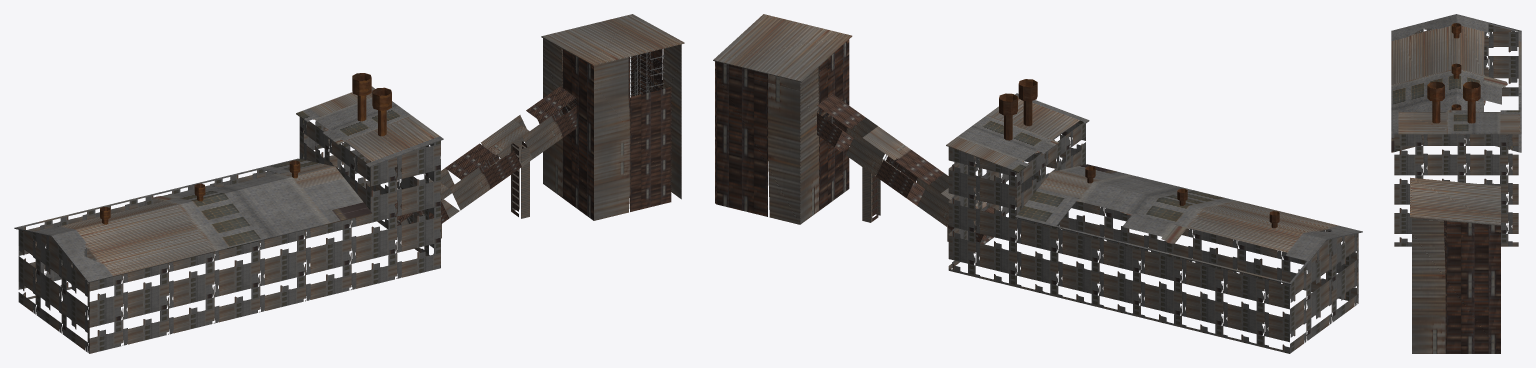
File: old_factory_02.fbx
3 renders of one model, left to right at view 1: azimuth 30°, elevation 25°; view 2: azimuth 150°, elevation 25°; view 3: azimuth 270°, elevation 25°, orthographic. The views are drawn at different scales.
Parts seen in each view (by area): view 1: Factory_Building_Main, Steel_Construction, Roof_01, Factory_Building_Main_1, Steel_Construction_1, Roof_02, Roof_03, Chimney_Big, Steel_Construction_Beam, Chimney_Small; view 2: Factory_Building_Main, Steel_Construction, Roof_01, Factory_Building_Main_1, Steel_Construction_1, Roof_03, Roof_02, Chimney_Big, Steel_Construction_Beam; view 3: Steel_Construction, Roof_01, Factory_Building_Main_1, Roof_03, Roof_02, Factory_Building_Main, Chimney_Big, Chimney_Small.
Boxes of the visible parts, <box> form: Factory_Building_Main: <box>18,169,370,353</box>; Steel_Construction: <box>543,38,681,220</box>; Roof_01: <box>14,158,372,282</box>; Factory_Building_Main_1: <box>299,117,440,285</box>; Steel_Construction_1: <box>395,86,576,225</box>; Roof_02: <box>296,86,443,167</box>; Roof_03: <box>541,14,684,65</box>; Chimney_Big: <box>352,73,391,136</box>; Steel_Construction_Beam: <box>511,139,529,218</box>; Chimney_Small: <box>100,160,300,224</box>; Factory_Building_Main: <box>1017,203,1358,353</box>; Steel_Construction: <box>715,39,849,224</box>; Roof_01: <box>1015,164,1362,284</box>; Factory_Building_Main_1: <box>948,120,1085,287</box>; Steel_Construction_1: <box>817,94,1003,243</box>; Roof_03: <box>713,14,852,82</box>; Roof_02: <box>946,93,1089,172</box>; Chimney_Big: <box>999,79,1037,140</box>; Steel_Construction_Beam: <box>862,167,880,222</box>; Steel_Construction: <box>1412,218,1500,353</box>; Roof_01: <box>1391,14,1521,152</box>; Factory_Building_Main_1: <box>1394,112,1518,246</box>; Roof_03: <box>1410,177,1500,225</box>; Roof_02: <box>1392,110,1520,134</box>; Factory_Building_Main: <box>1415,24,1518,96</box>; Chimney_Big: <box>1427,81,1480,123</box>; Chimney_Small: <box>1451,23,1461,110</box>.
Bounding box in the file's own units: 6906 × 1820 × 1463.
3 materials, 3 textured.
